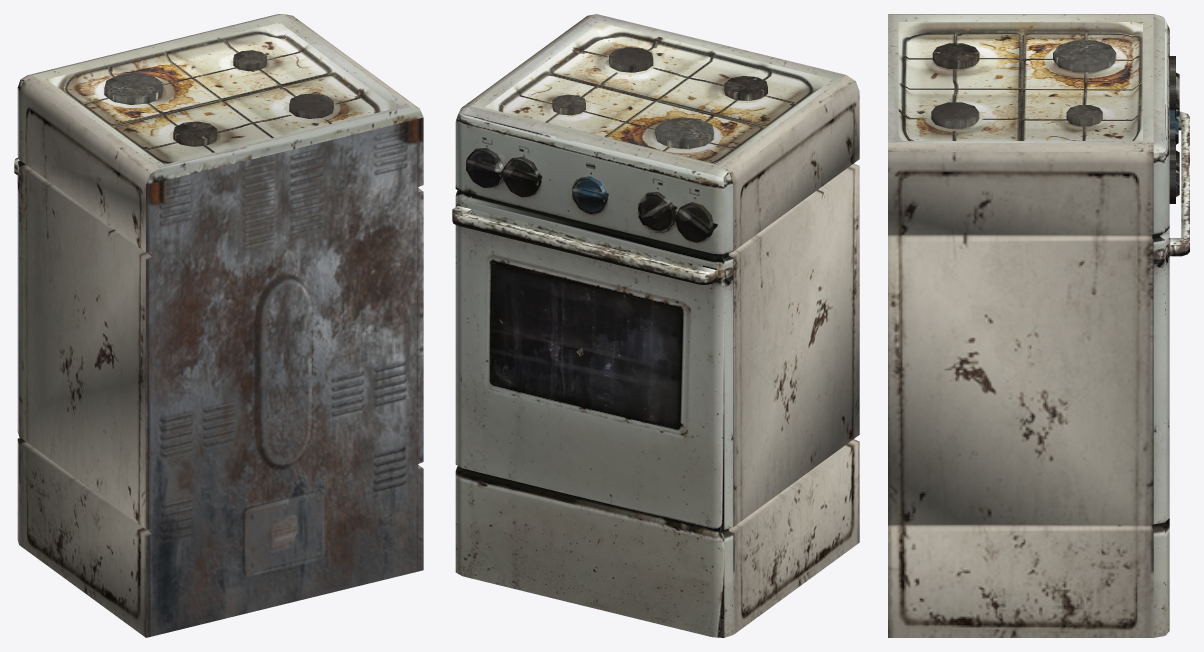
File: old_gas_stove.glb
The picture shows the model from 3 angles, left to right: view 1: azimuth 30°, elevation 25°; view 2: azimuth 150°, elevation 25°; view 3: azimuth 270°, elevation 25°; orthographic projection. The views are drawn at different scales.
Parts seen in each view (by area): view 1: Cube.292; view 2: Cube.292, Cylinder.036, Cylinder.034, Cylinder.037, Cylinder.033, Cylinder.035; view 3: Cube.292.
Boxes of the visible parts, <box> form: Cube.292: <box>14,14,423,637</box>; Cube.292: <box>452,14,859,637</box>; Cylinder.036: <box>638,192,675,232</box>; Cylinder.034: <box>503,156,541,197</box>; Cylinder.037: <box>675,202,713,243</box>; Cylinder.033: <box>466,148,503,188</box>; Cylinder.035: <box>572,176,607,213</box>; Cube.292: <box>888,14,1189,637</box>.
Bounding box in the file's own units: 0.8095 × 1.3 × 0.7283.
1 material, 1 textured.
